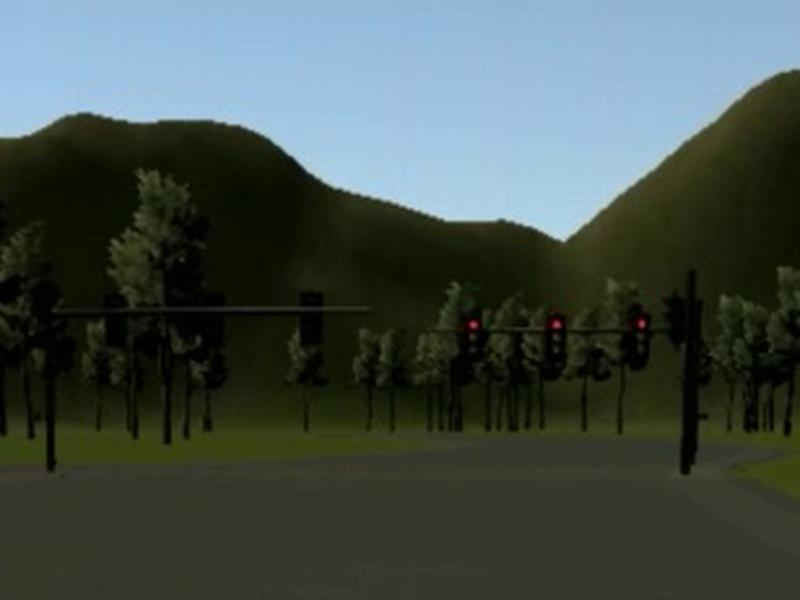Red: (628, 315, 652, 361), (461, 316, 484, 361), (544, 314, 567, 359)
